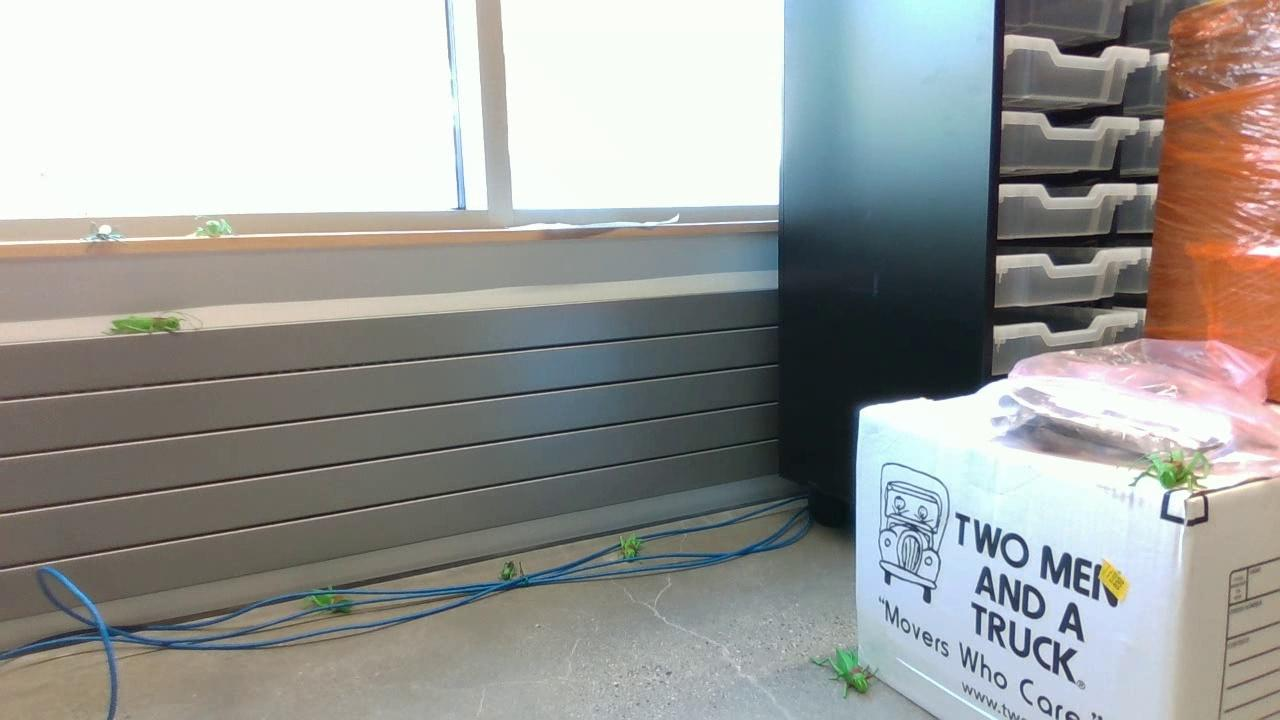grasshopper: (1129, 446, 1212, 500), (807, 649, 885, 699), (103, 312, 202, 334), (300, 580, 359, 613), (611, 526, 643, 567), (186, 218, 236, 238)
